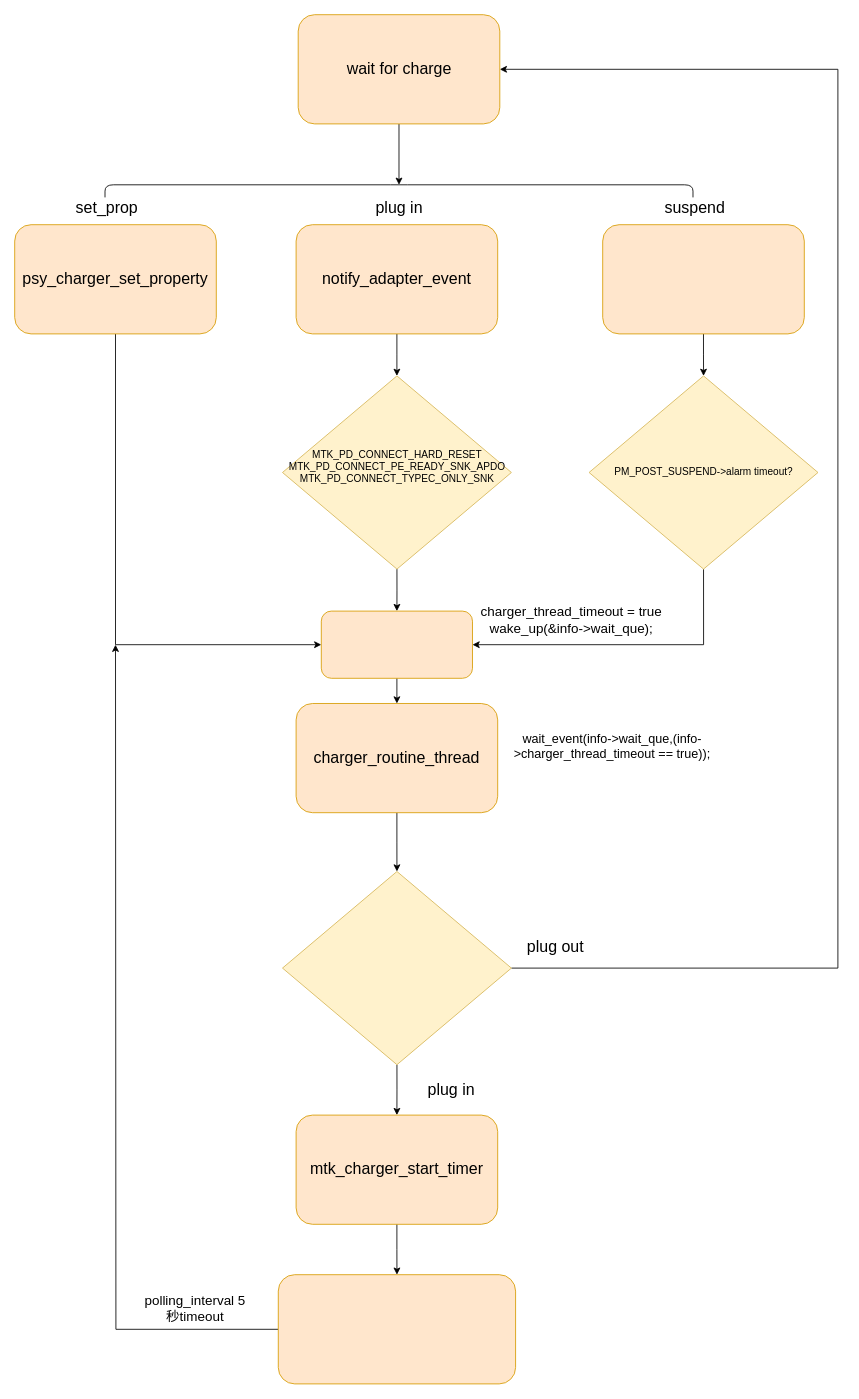
Image size: 859x1399. Some labels were removed from this diagram. The centre of each missing label's shape, as x and y in pixels:
_wake_up_charger: point (396, 644)
charger_pm_event->PM_POST_SUSPEND: point (703, 279)
is plug?: point (396, 968)
mtk_charger_alarm_timer_func: point (396, 1329)
